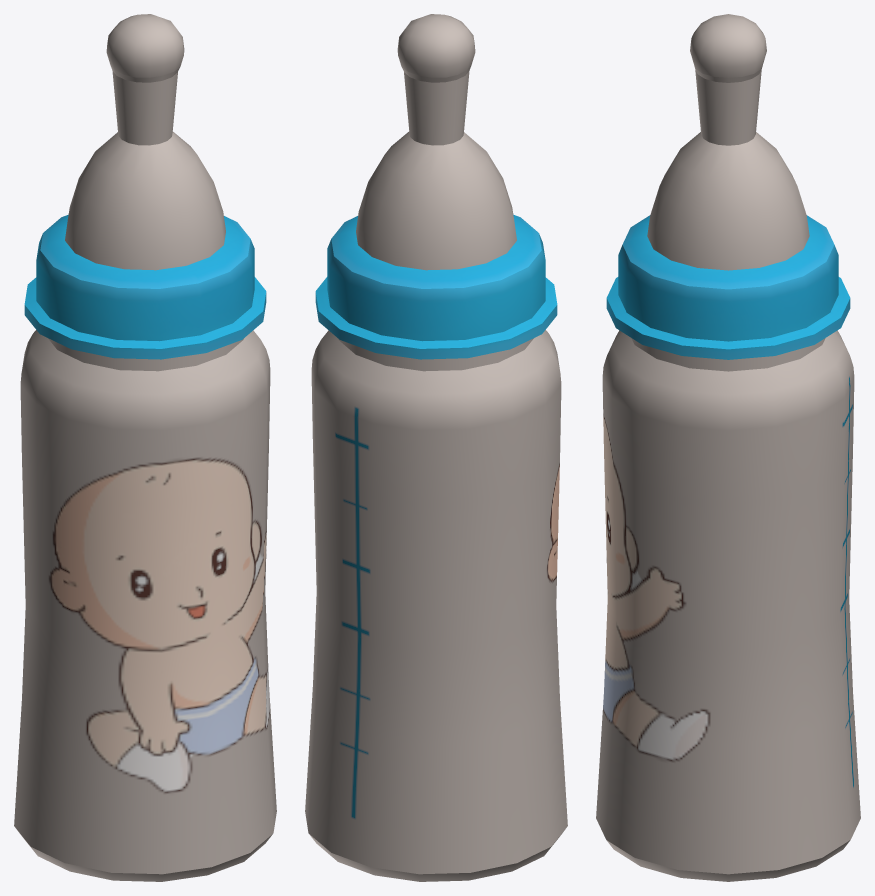
File: Parent_Run_Milk_Bottle 1.fbx
3 renders of one model, left to right at view 1: azimuth 30°, elevation 25°; view 2: azimuth 150°, elevation 25°; view 3: azimuth 270°, elevation 25°, orthographic.
Visible parts, largest first — view 1: Milk_Bottle; view 2: Milk_Bottle; view 3: Milk_Bottle.
Boxes of the visible parts, x1=… form: Milk_Bottle: x1=14, y1=14, x2=276, y2=881; Milk_Bottle: x1=305, y1=14, x2=567, y2=881; Milk_Bottle: x1=596, y1=14, x2=860, y2=881.
Bounding box in the file's own units: 25.22 × 85.61 × 25.22.
